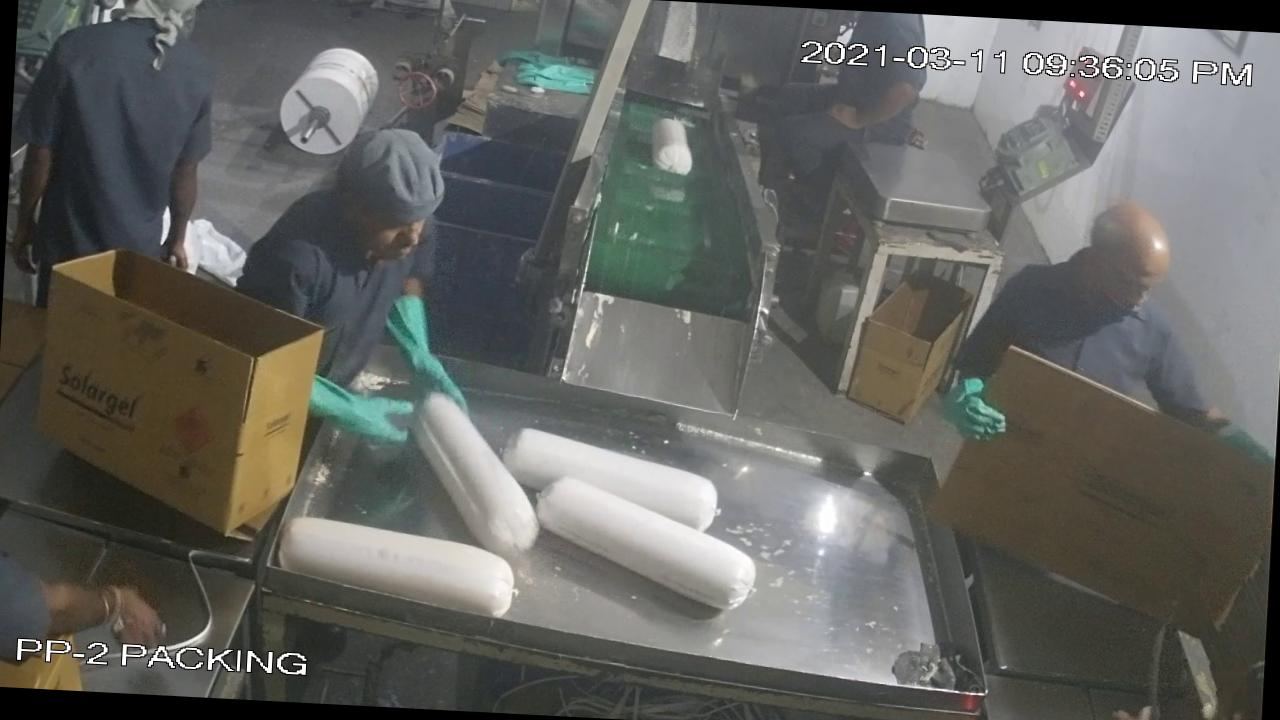Gloves: (387, 275, 481, 402), (927, 350, 1012, 468)
No-gloves: (36, 550, 170, 668), (153, 133, 208, 291), (821, 64, 926, 146), (5, 136, 60, 281)
